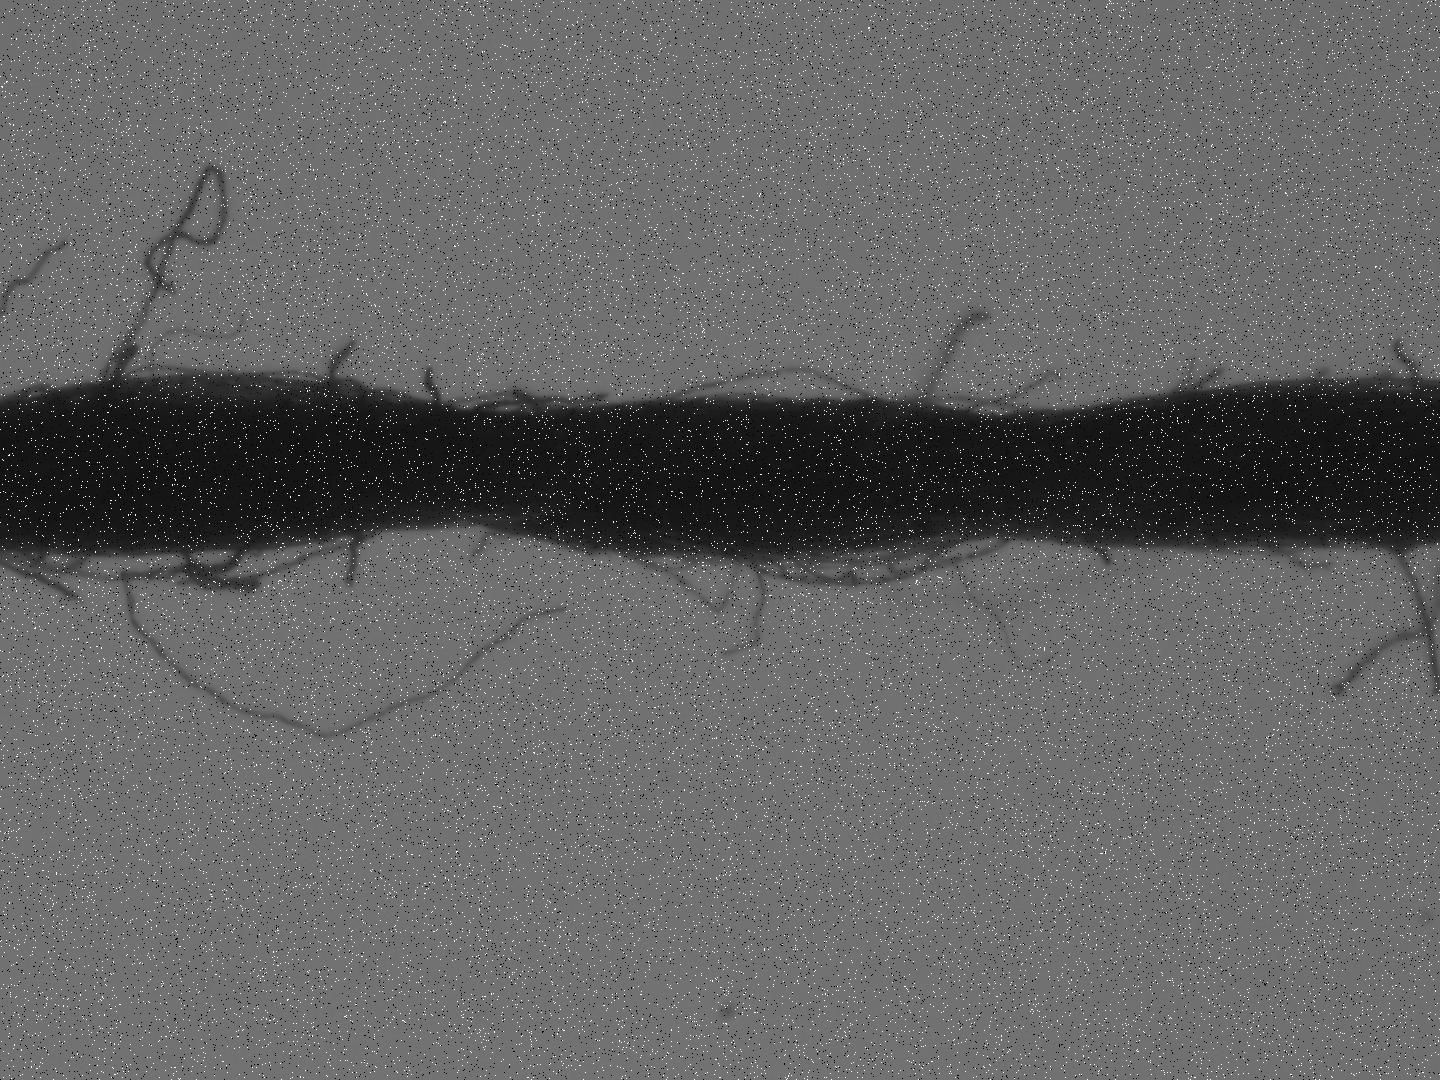loop_fiber: (721, 531, 1020, 589), (645, 362, 882, 403), (19, 545, 190, 587), (676, 550, 746, 615), (907, 389, 1037, 416), (433, 383, 537, 416), (172, 546, 248, 575), (626, 548, 704, 574), (22, 548, 91, 576), (3, 543, 48, 568)
protruding_fiber: (909, 301, 991, 407), (1386, 336, 1426, 391), (334, 530, 365, 587)
